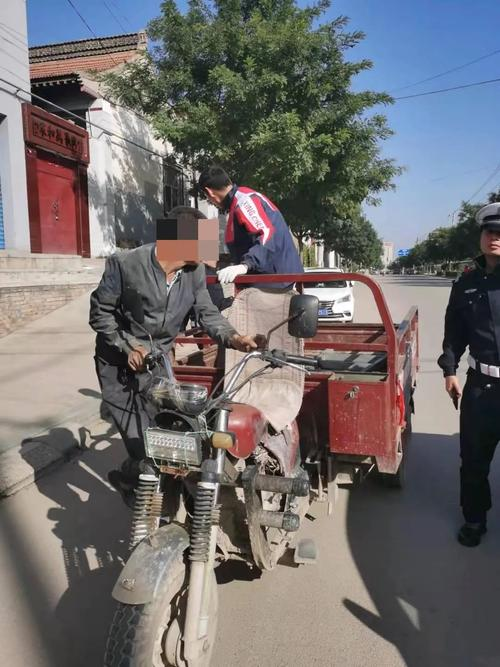driver: (87, 187, 312, 552)
overloading: (54, 145, 445, 667)
passenger: (172, 152, 368, 342)
